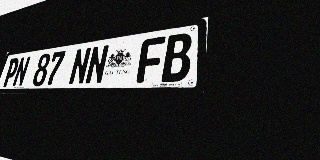7: (44, 51, 66, 86)
8: (31, 53, 52, 86)
B: (161, 32, 193, 82)
F: (136, 36, 166, 83)
N: (84, 44, 110, 85), (68, 47, 92, 85), (12, 56, 31, 87)
P: (2, 57, 21, 87)
